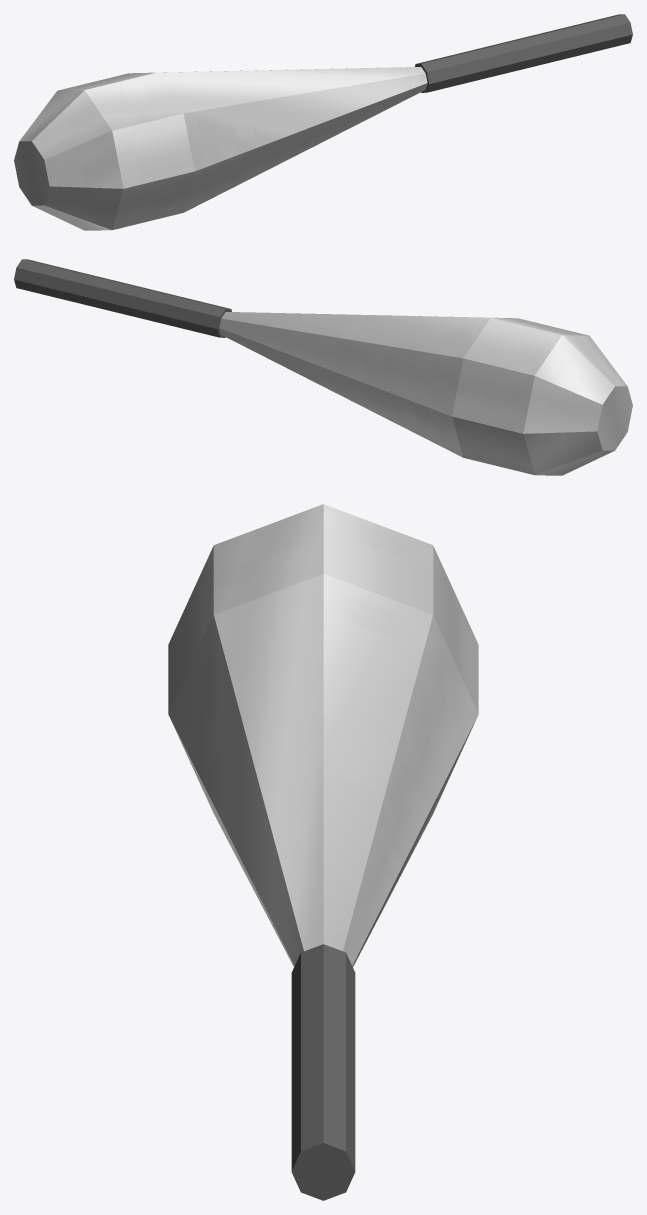
File: Whisk.fbx
3 views of the same model, one above another, from view 1: azimuth 30°, elevation 25°; view 2: azimuth 150°, elevation 25°; view 3: azimuth 270°, elevation 25° (orthographic). The views are drawn at different scales.
Visible parts, largest first — view 1: Whisk; view 2: Whisk; view 3: Whisk.
Boxes of the visible parts, <box> form: Whisk: <box>14,14,632,230</box>; Whisk: <box>14,259,632,475</box>; Whisk: <box>168,504,478,1200</box>.
Bounding box in the file's own units: 100 × 22.68 × 22.68.
